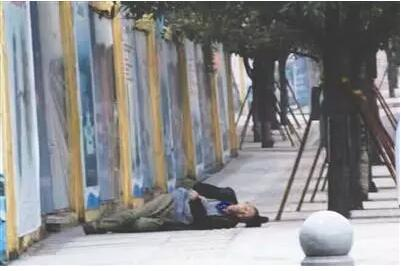fall: (80, 178, 269, 236)
